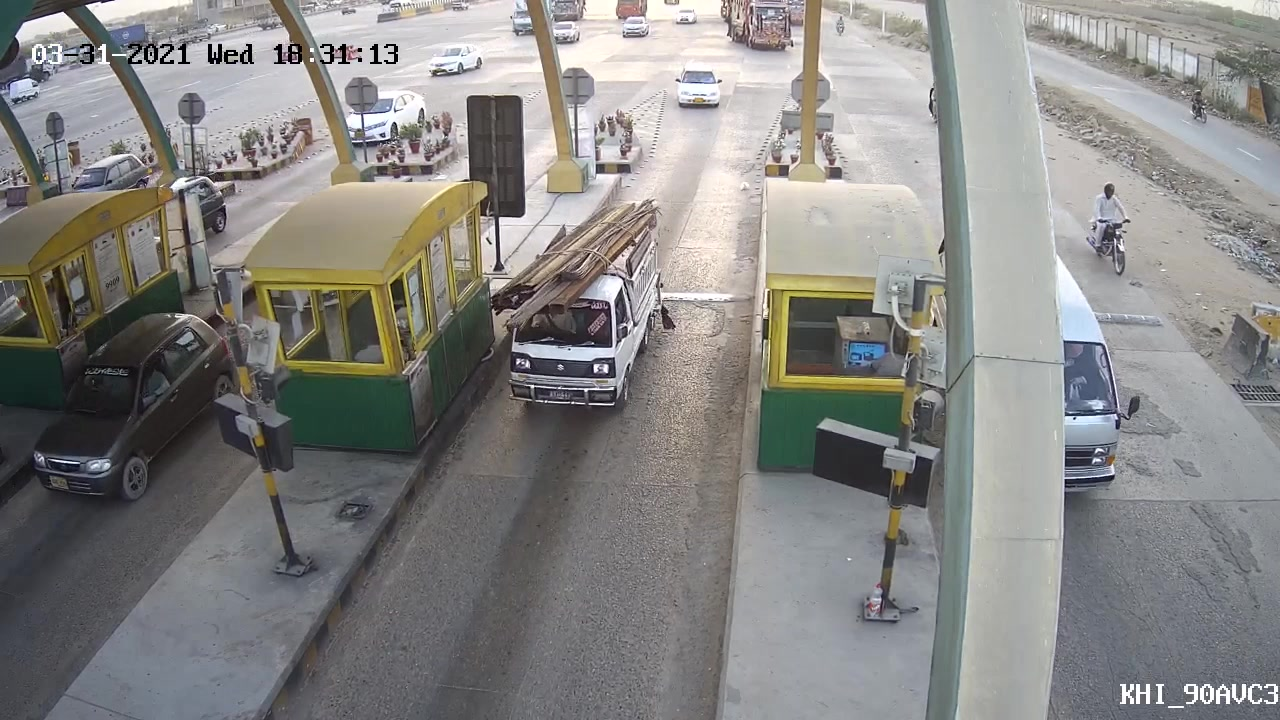F1: (503, 218, 671, 418)
